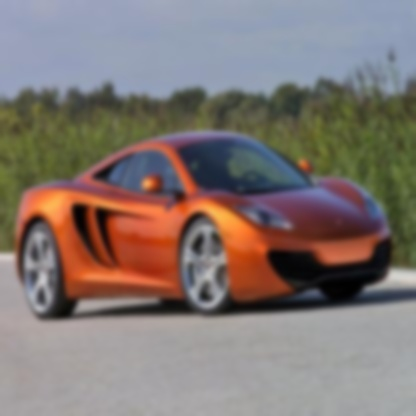Vehicle: (17, 131, 394, 321)
